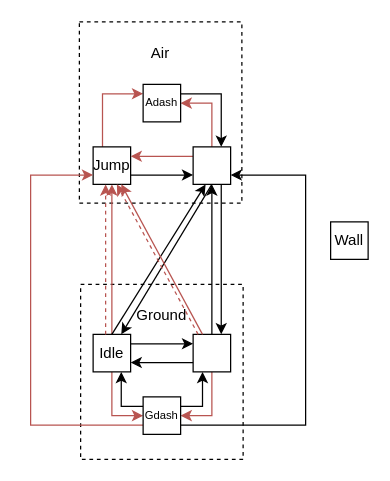
Image size: 390x481. Some labels were removed from this diagram. The centre of each missing label's shape, as x and y in pixels:
"Fall" goes at pixel 211 165.
"Run" goes at pixel 211 352.
